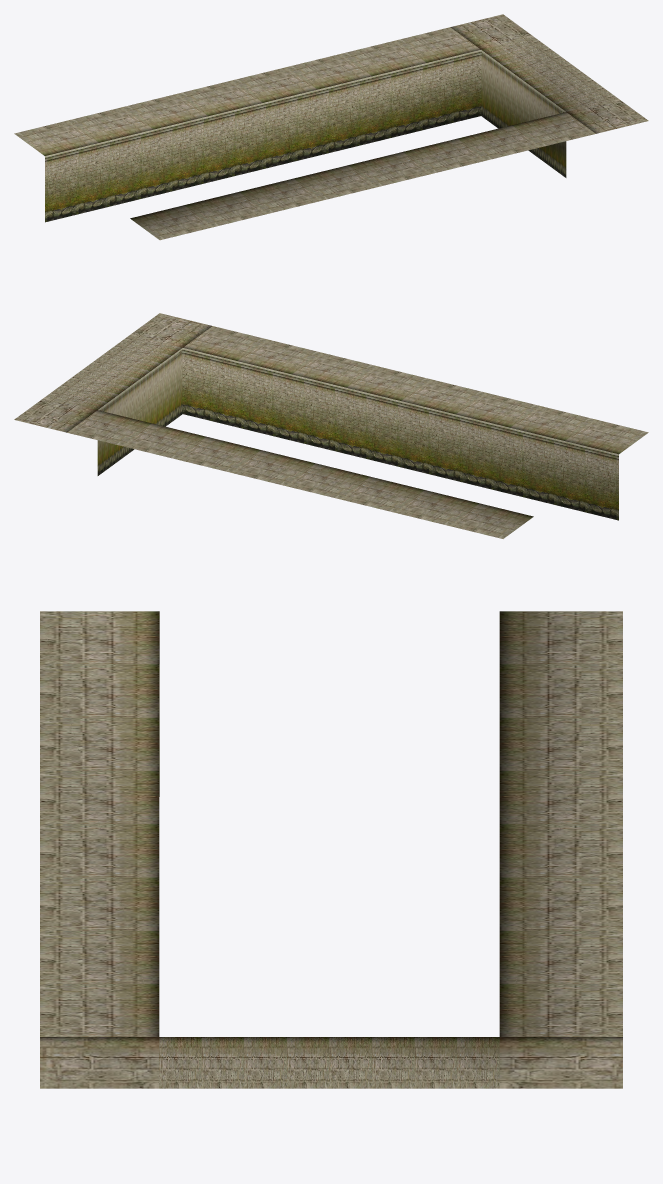
Rendered from cj2_brg_wall04.glb.
3 renders of one model, top to bottom at view 1: azimuth 30°, elevation 25°; view 2: azimuth 150°, elevation 25°; view 3: azimuth 270°, elevation 25°, orthographic. The views are drawn at different scales.
Parts seen in each view (by area): view 1: CJ2_brg_wall04; view 2: CJ2_brg_wall04; view 3: CJ2_brg_wall04.
Boxes of the visible parts, <box> form: CJ2_brg_wall04: <box>14,14,648,240</box>; CJ2_brg_wall04: <box>14,313,648,538</box>; CJ2_brg_wall04: <box>40,611,622,1088</box>.
Size of the model in its own units: 30.88 by 4 by 15.94.
Materials: 1 (1 with a texture image).
